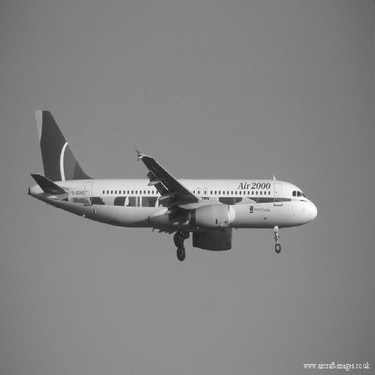airplane: (18, 101, 324, 264)
